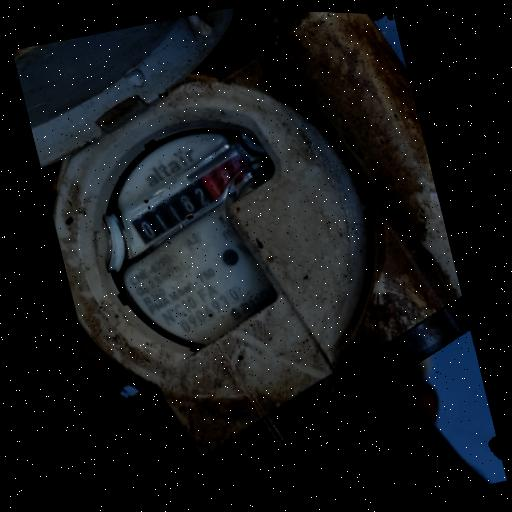0: (130, 208, 166, 247)
1: (146, 200, 178, 238), (197, 168, 229, 205), (160, 193, 189, 229)
2: (185, 176, 217, 214)
8: (169, 184, 205, 223), (209, 157, 242, 191), (225, 152, 248, 177)
border_water_meter_number: (112, 137, 272, 258)
